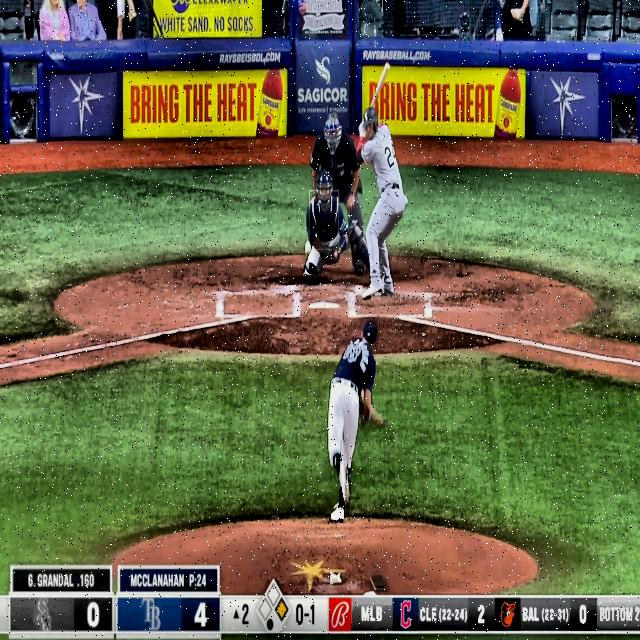baseball: (304, 240, 312, 253)
